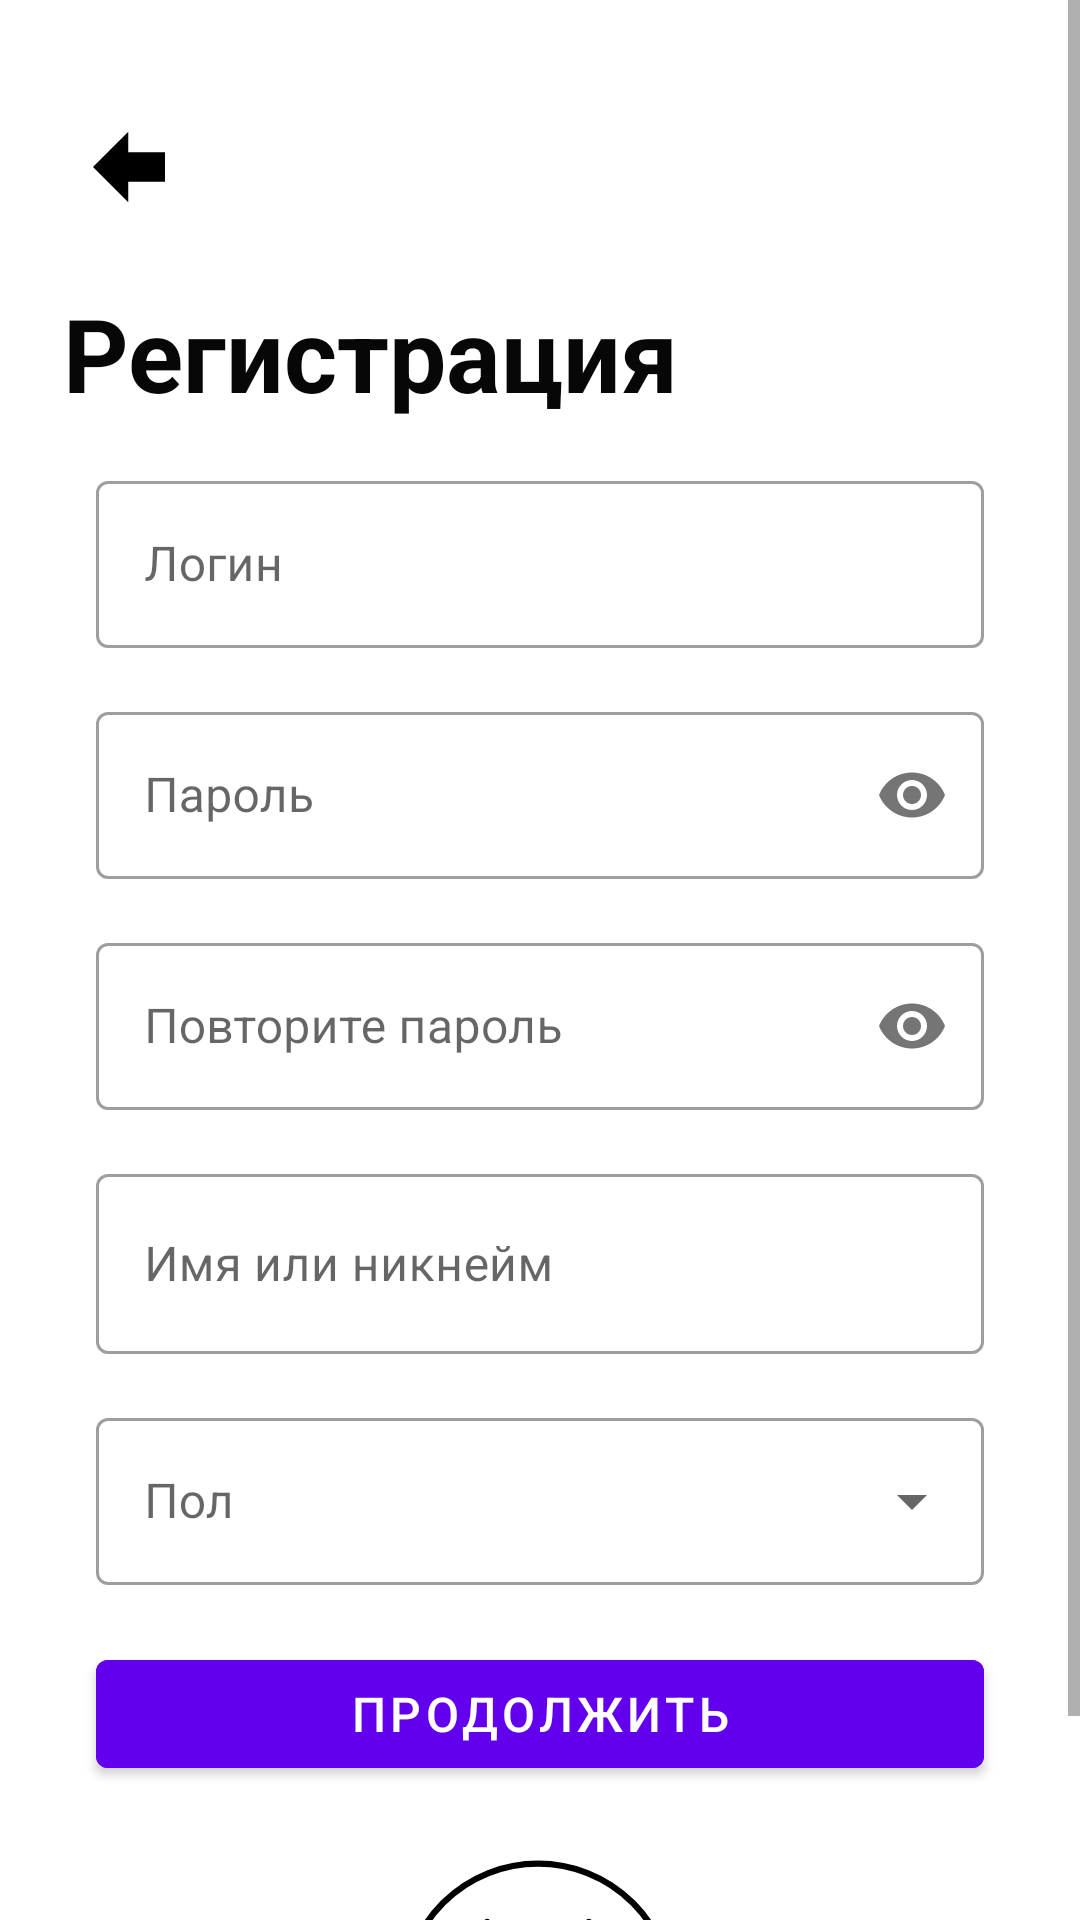

Named icons in this screenshot (1080x1920) and their centers, (x,y):
back arrow: (129,167)
